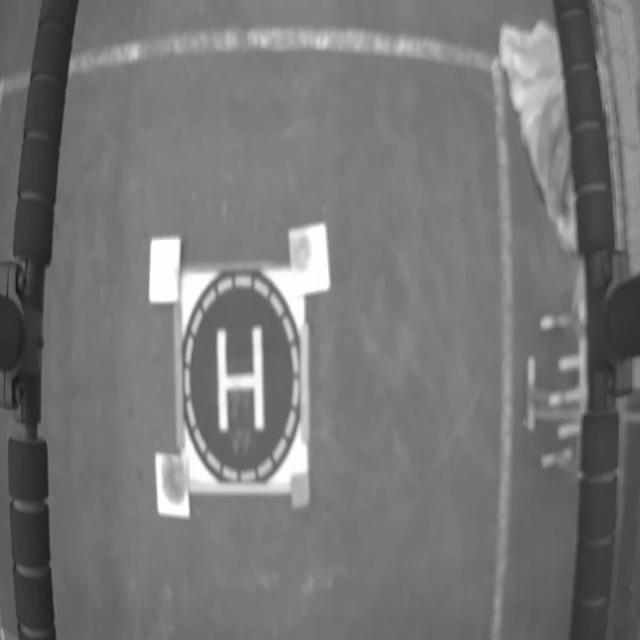Helipad: (216, 327, 264, 432)
